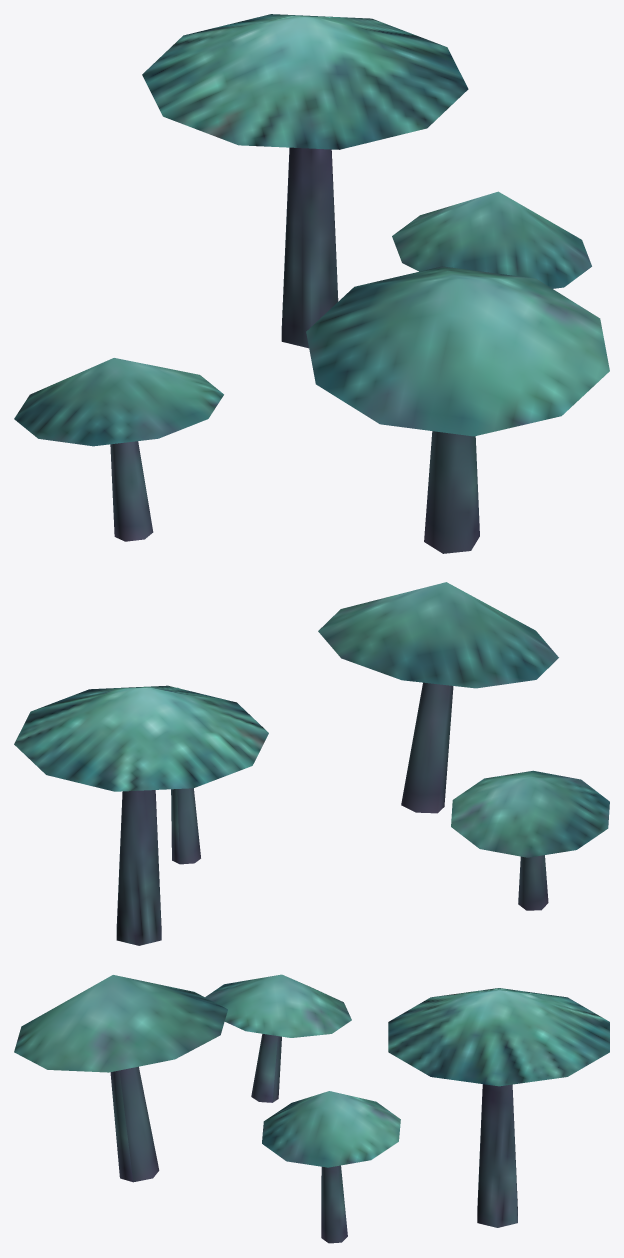
File: Scene_Mushrooms_04.FBX
3 views of the same model, one above another, from view 1: azimuth 30°, elevation 25°; view 2: azimuth 150°, elevation 25°; view 3: azimuth 270°, elevation 25° (orthographic). The views are drawn at different scales.
Parts seen in each view (by area): view 1: Scene_Mushrooms_04; view 2: Scene_Mushrooms_04; view 3: Scene_Mushrooms_04.
Part boxes in pixels (x1,y1,x2,y2): Scene_Mushrooms_04: [14, 14, 609, 553]; Scene_Mushrooms_04: [14, 582, 609, 945]; Scene_Mushrooms_04: [14, 974, 609, 1243].
Bounding box in the file's own units: 1.11 × 0.575 × 1.37.
